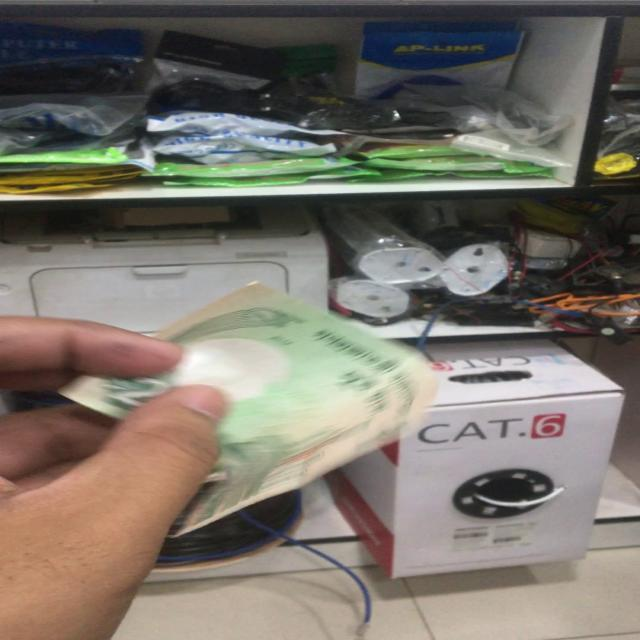Taka: (73, 281, 446, 506)
